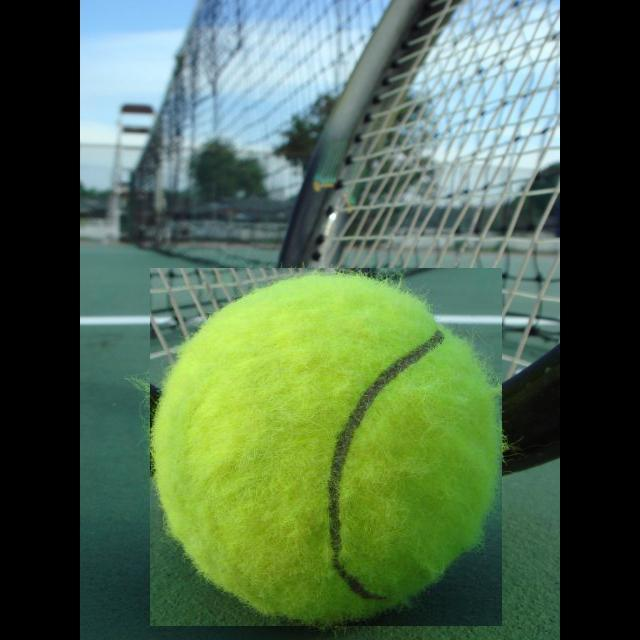tennis ball: (150, 268, 502, 626)
